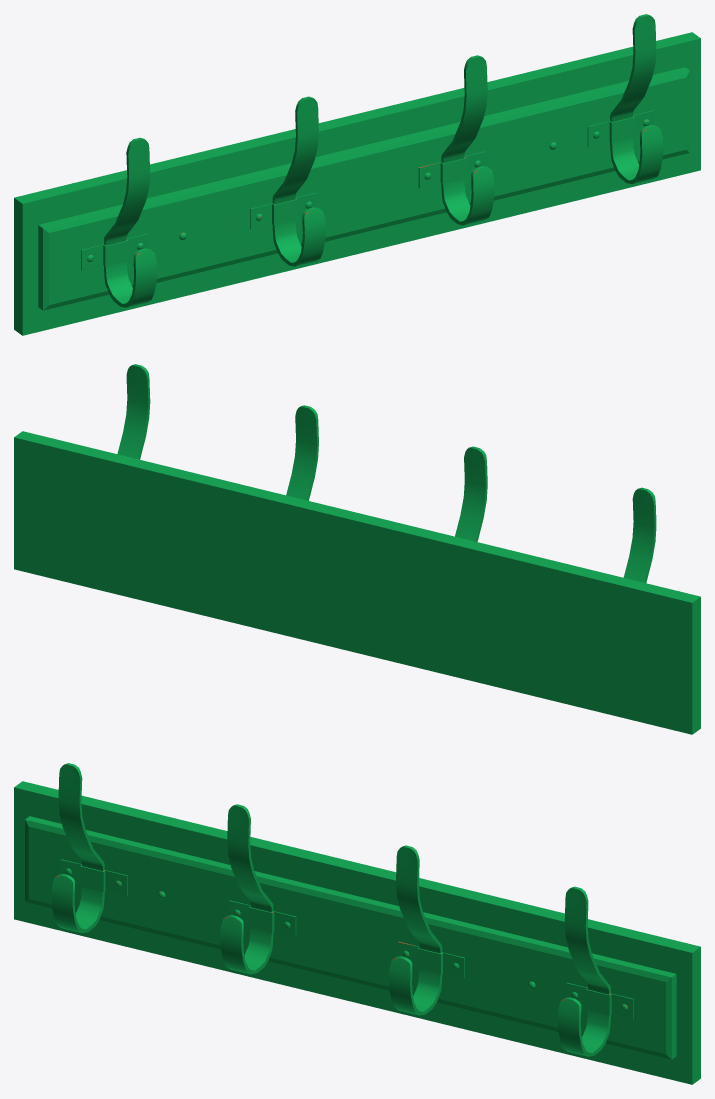
Rendered from 壁掛勾.fbx.
3 views of the same model, one above another, from view 1: azimuth 30°, elevation 25°; view 2: azimuth 150°, elevation 25°; view 3: azimuth 330°, elevation 25° (orthographic).
Visible parts, largest first — view 1: 000-0-0; view 2: 000-0-0; view 3: 000-0-0.
Part boxes in pixels (box(x1,y1,x2,y2)): 000-0-0: box(14, 14, 700, 335); 000-0-0: box(14, 364, 700, 734); 000-0-0: box(14, 763, 700, 1084).
Size of the model in its own units: 35.48 by 9.85 by 4.23.
